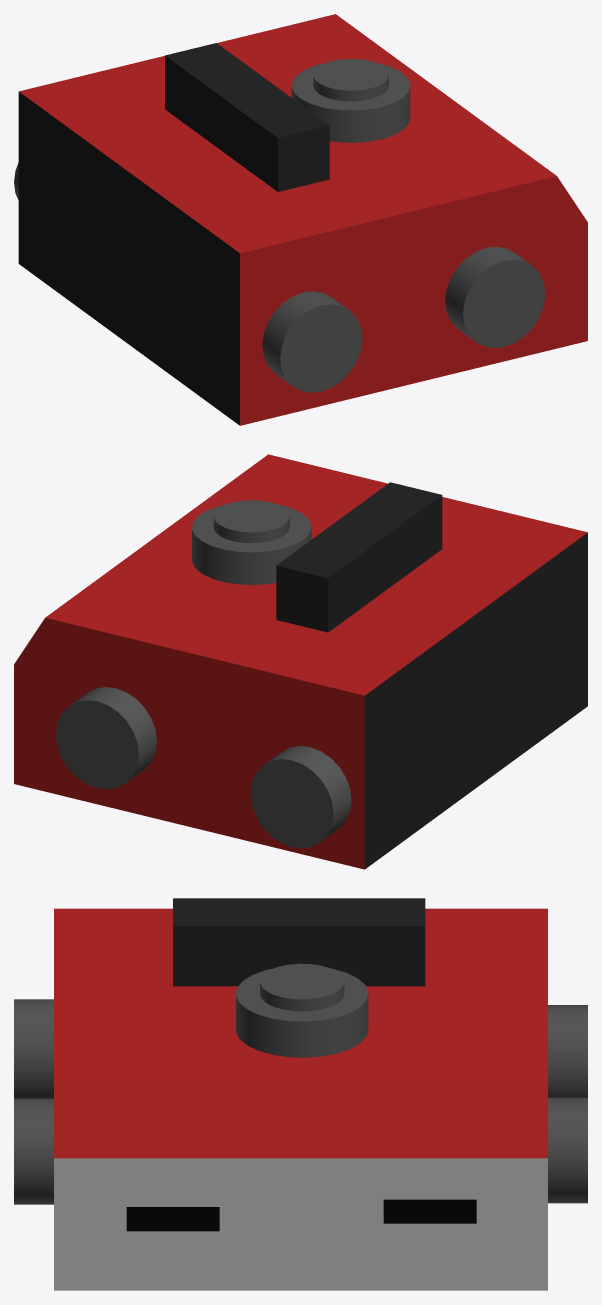
Rendered from ROSBOT_realSize_fix3.gltf.
The picture shows the model from 3 angles, top to bottom: view 1: azimuth 30°, elevation 25°; view 2: azimuth 150°, elevation 25°; view 3: azimuth 270°, elevation 25°; orthographic projection. The views are drawn at different scales.
Parts seen in each view (by area): view 1: root; view 2: root; view 3: root.
Part boxes in pixels (<box>): root: <box>14,14,587,425</box>; root: <box>14,454,587,869</box>; root: <box>14,898,587,1290</box>.
Size of the model in its own units: 0.1885 by 0.1172 by 0.2411.
